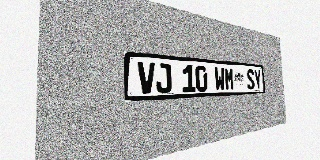0: (195, 65, 208, 92)
1: (182, 65, 196, 92)
J: (155, 63, 172, 93)
M: (224, 67, 234, 91)
S: (246, 69, 255, 90)
V: (137, 62, 155, 94)
W: (214, 67, 225, 91)
Y: (254, 69, 262, 89)
